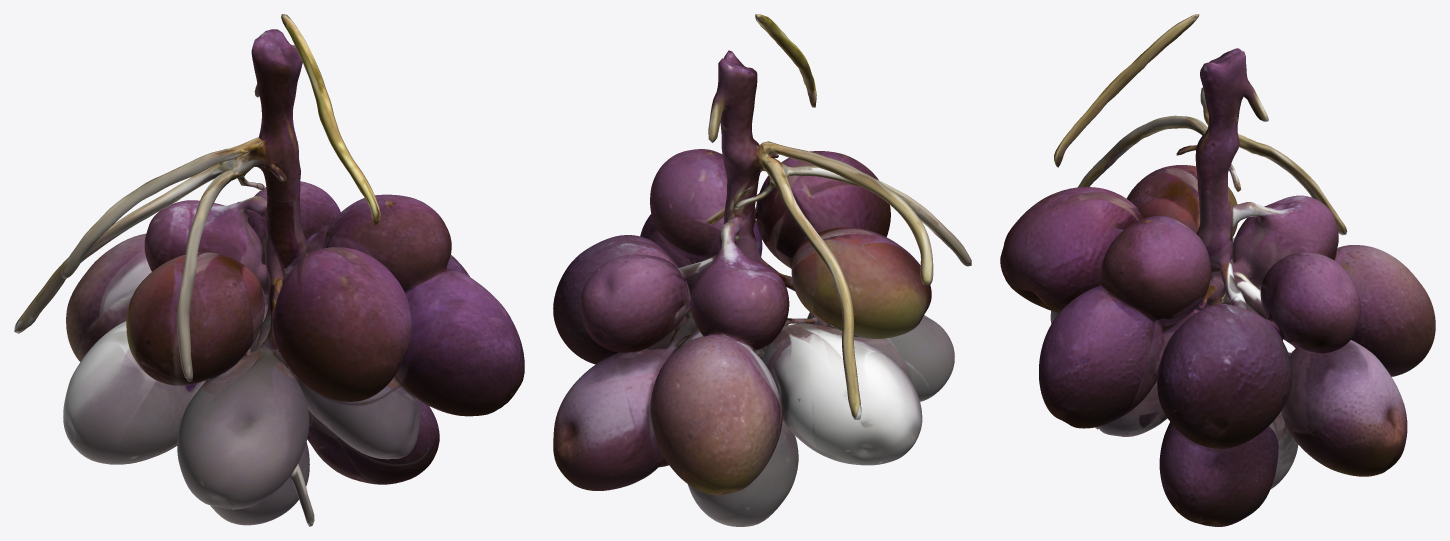
The model's file is tree0060_dup.gltf.
3 views of the same model, side by side, from view 1: azimuth 30°, elevation 25°; view 2: azimuth 150°, elevation 25°; view 3: azimuth 270°, elevation 25° (orthographic). The views are drawn at different scales.
Parts seen in each view (by area): view 1: Mesh_0.031; view 2: Mesh_0.031; view 3: Mesh_0.031.
Part boxes in pixels (x1,y1,x2,y2): Mesh_0.031: [14, 14, 524, 526]; Mesh_0.031: [553, 14, 971, 526]; Mesh_0.031: [1000, 14, 1435, 526].
Bounding box in the file's own units: 1.61 × 1.99 × 1.64.
Materials: 1 (1 with a texture image).
